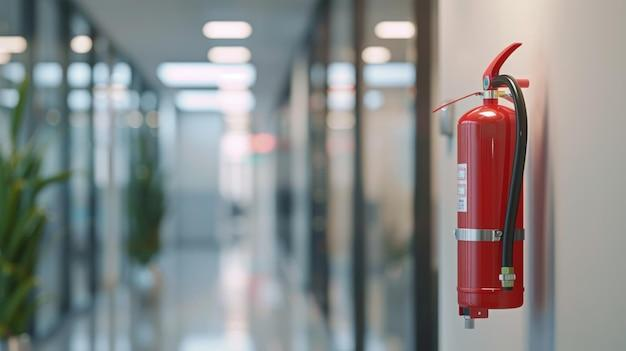wall-mounted: (430, 41, 562, 329)
